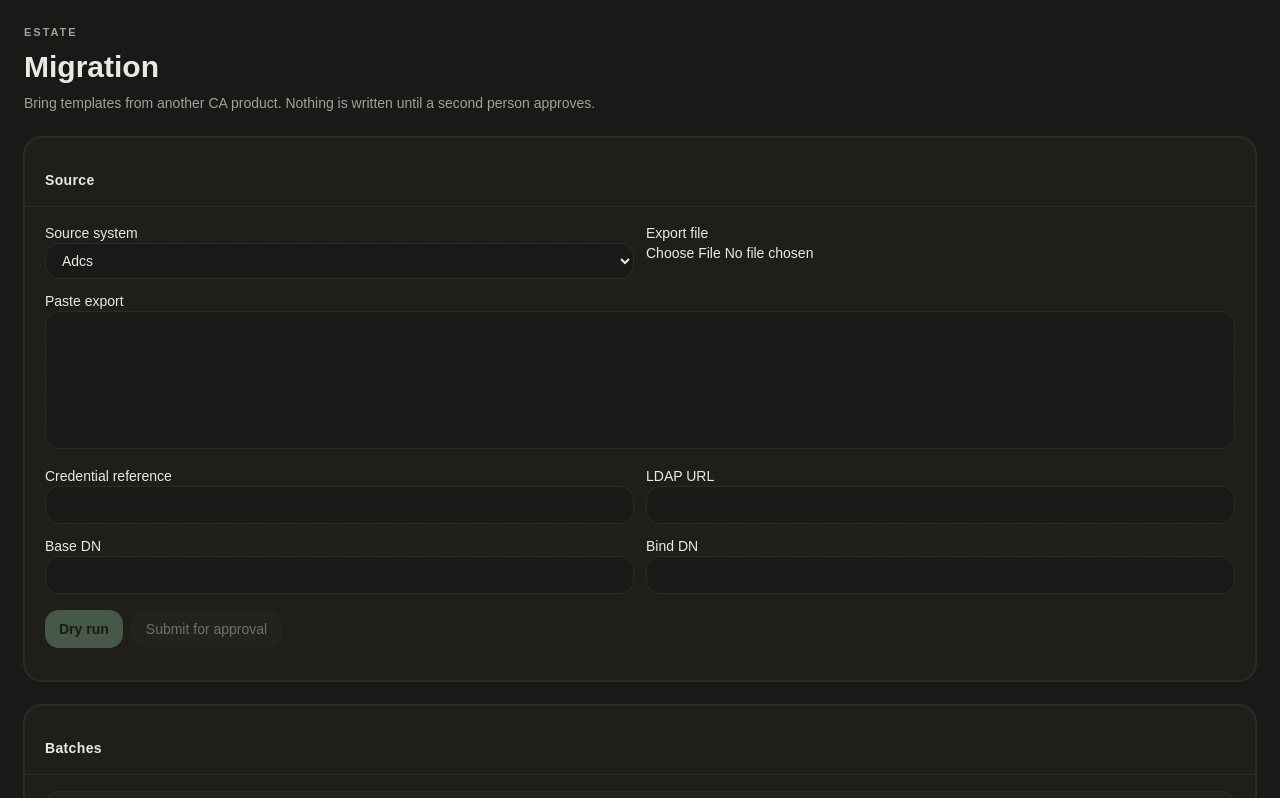
Scenario: Migration › submit disabled until a dry run with creates; editing clears the diff
Step 1. Select "Vault" in the dropdown labelled "Source system" → coordinates (340, 260), box [45,242,634,278]
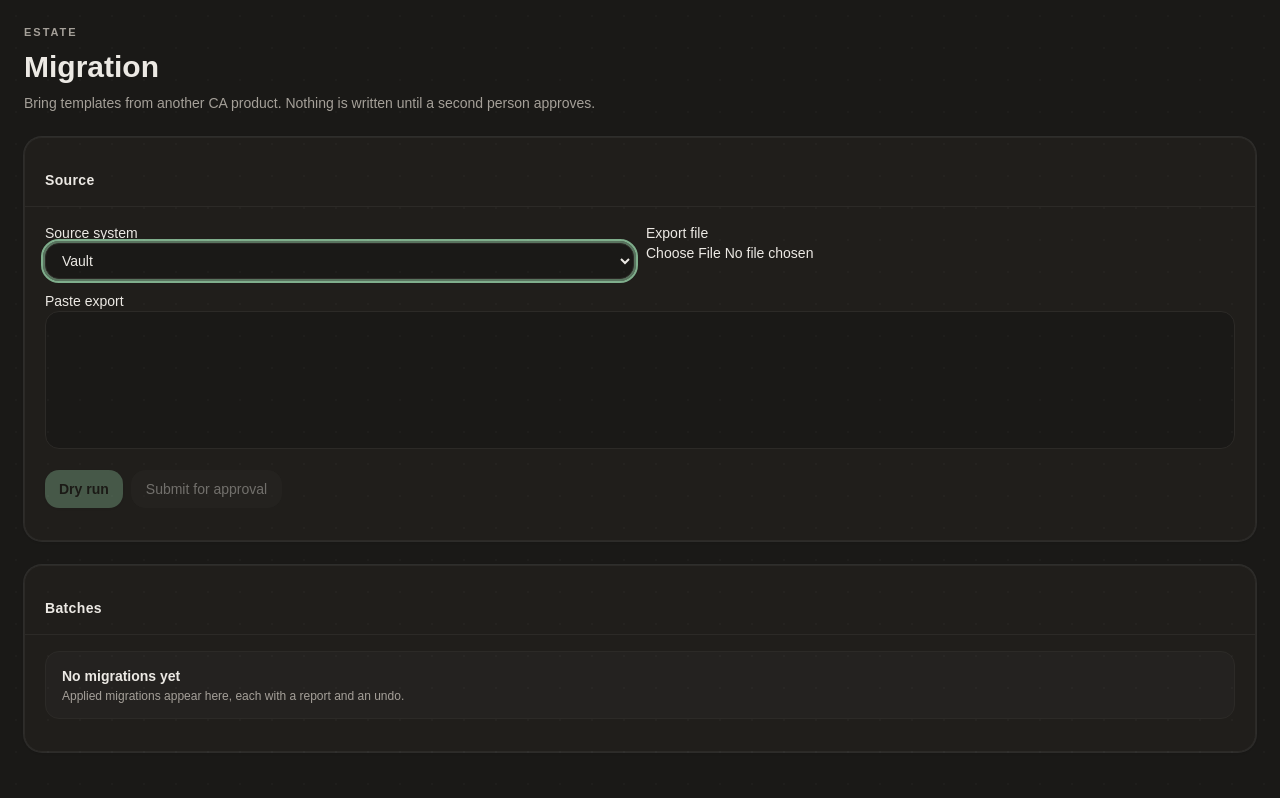
expect the button "Submit for approval" is disabled: met, box [131,470,282,508]
Step 2. Type "abc" into the text box labelled "Paste export" → coordinates (640, 380), box [45,310,1235,448]
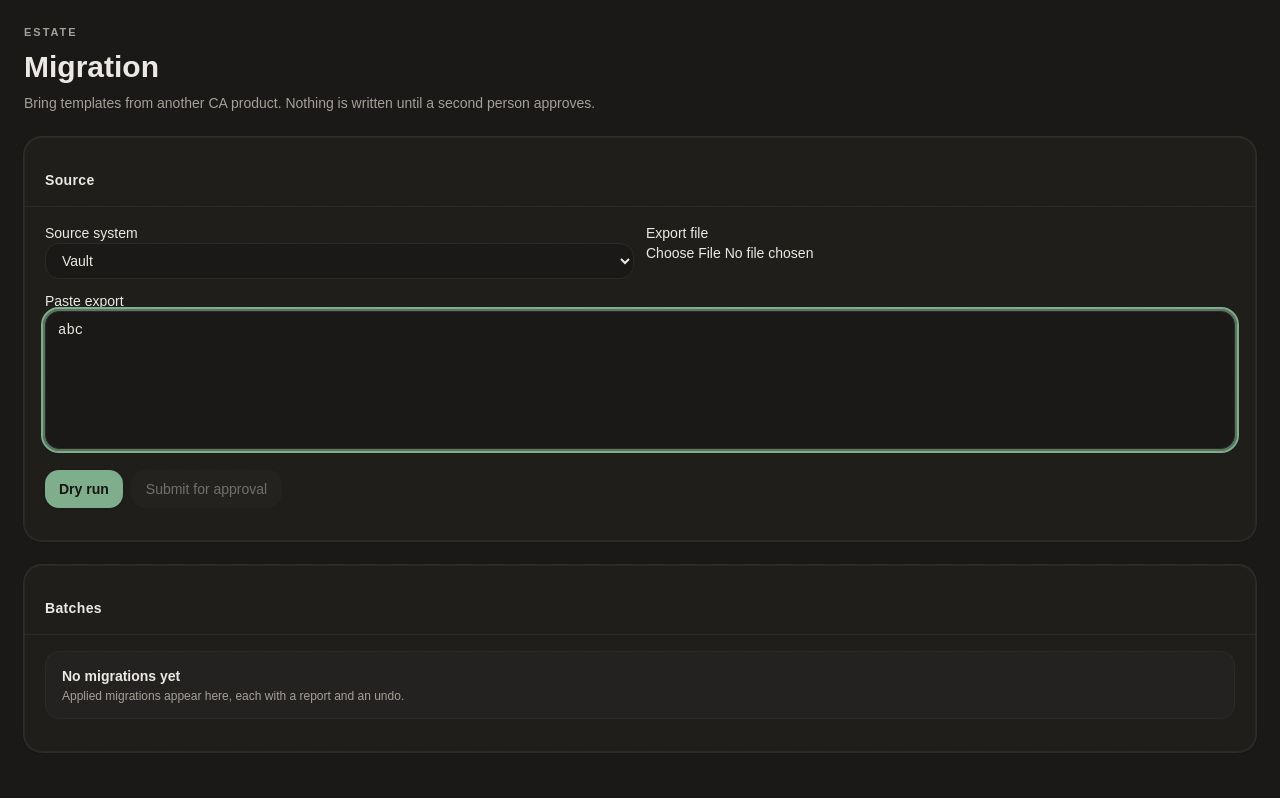
expect the button "Submit for approval" is disabled: met, box [131,470,282,508]
Step 3. Click the button "Dry run" → coordinates (84, 488), box [45,470,123,508]
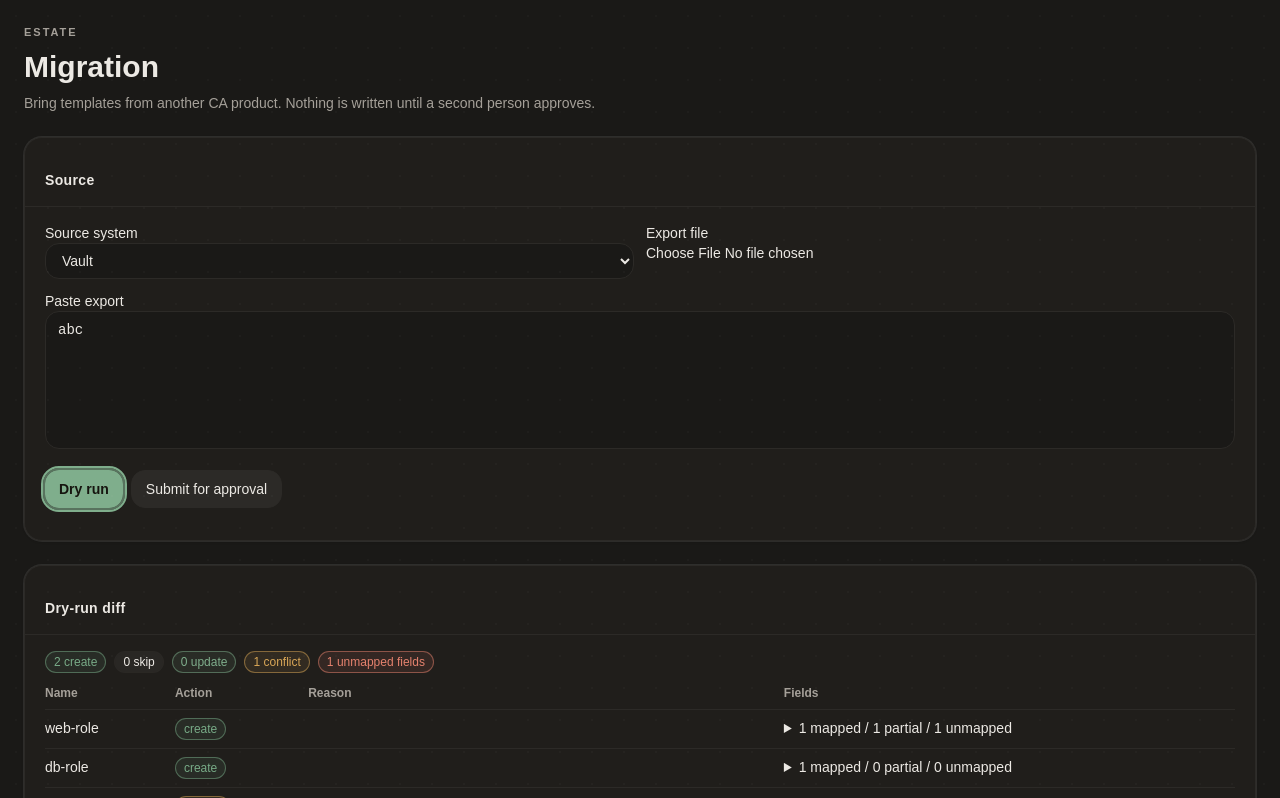
expect the text "2 create" is shown: met, box [45,650,106,672]
expect the button "Submit for approval" is enabled: met, box [131,470,282,508]
Step 4. Type "d" into the text box labelled "Paste export" → coordinates (640, 380), box [45,310,1235,448]
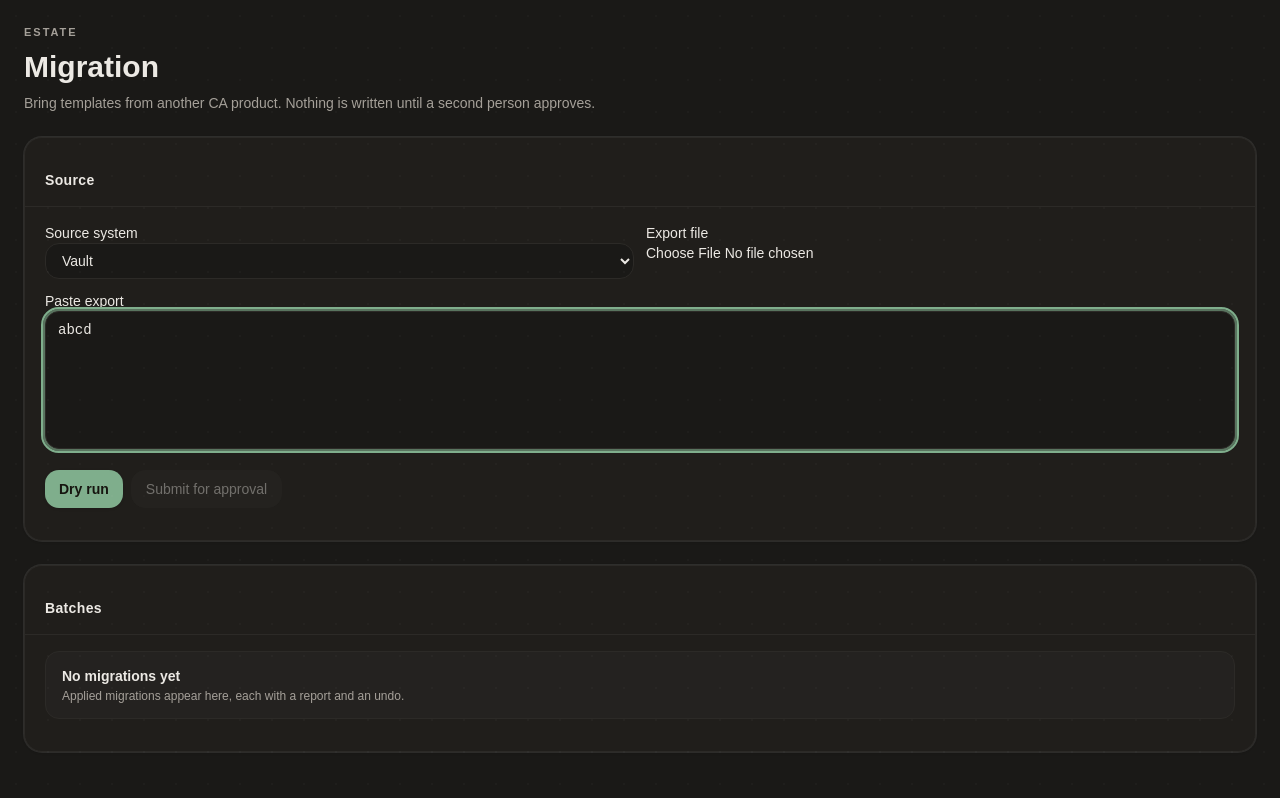
expect the text "2 create" is gone: met
expect the button "Submit for approval" is disabled: met, box [131,470,282,508]
